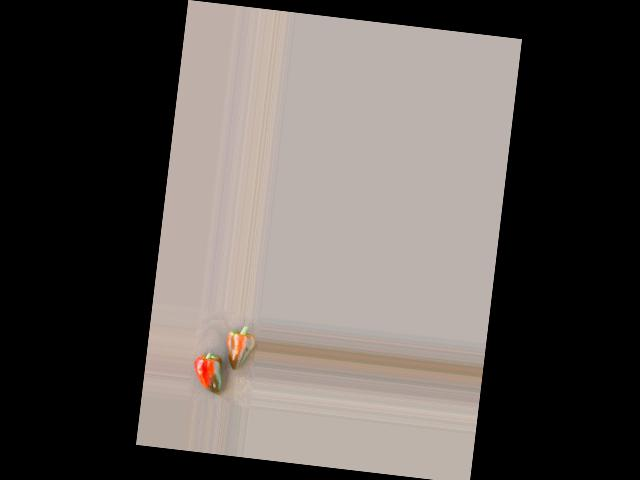bell_pepper: (189, 336, 229, 397)
